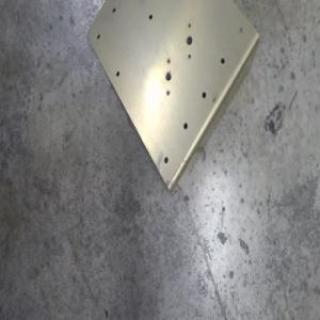MetalSheettrack_idkeyframe: (84, 0, 258, 195)
